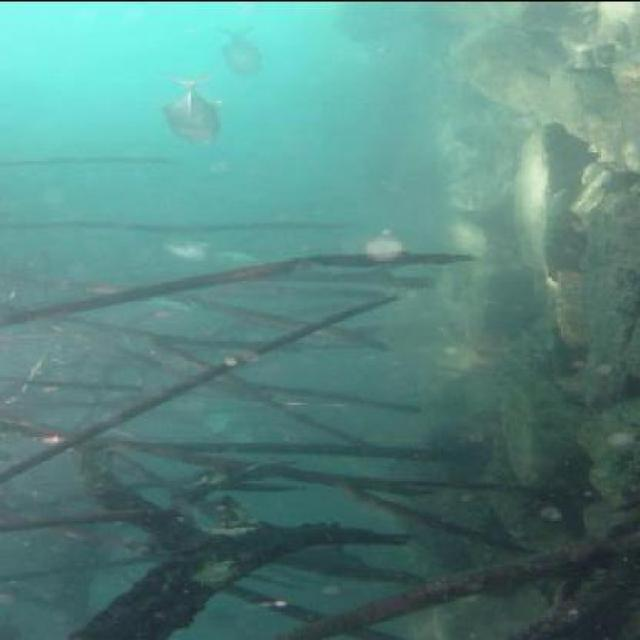Caranx_sexfasciatus_juvenile: (158, 74, 235, 144), (214, 22, 274, 78), (157, 232, 211, 258), (200, 248, 265, 269)
